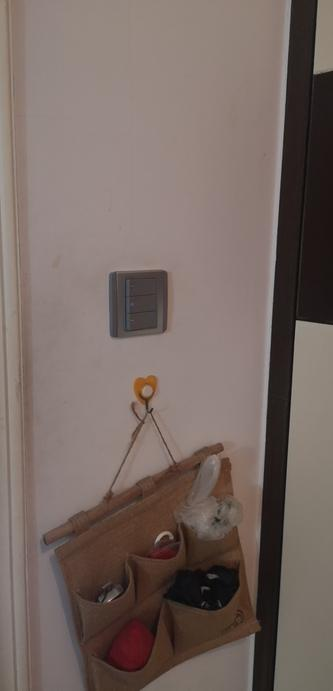switch: (123, 273, 161, 296), (120, 294, 165, 313), (121, 314, 163, 330)
